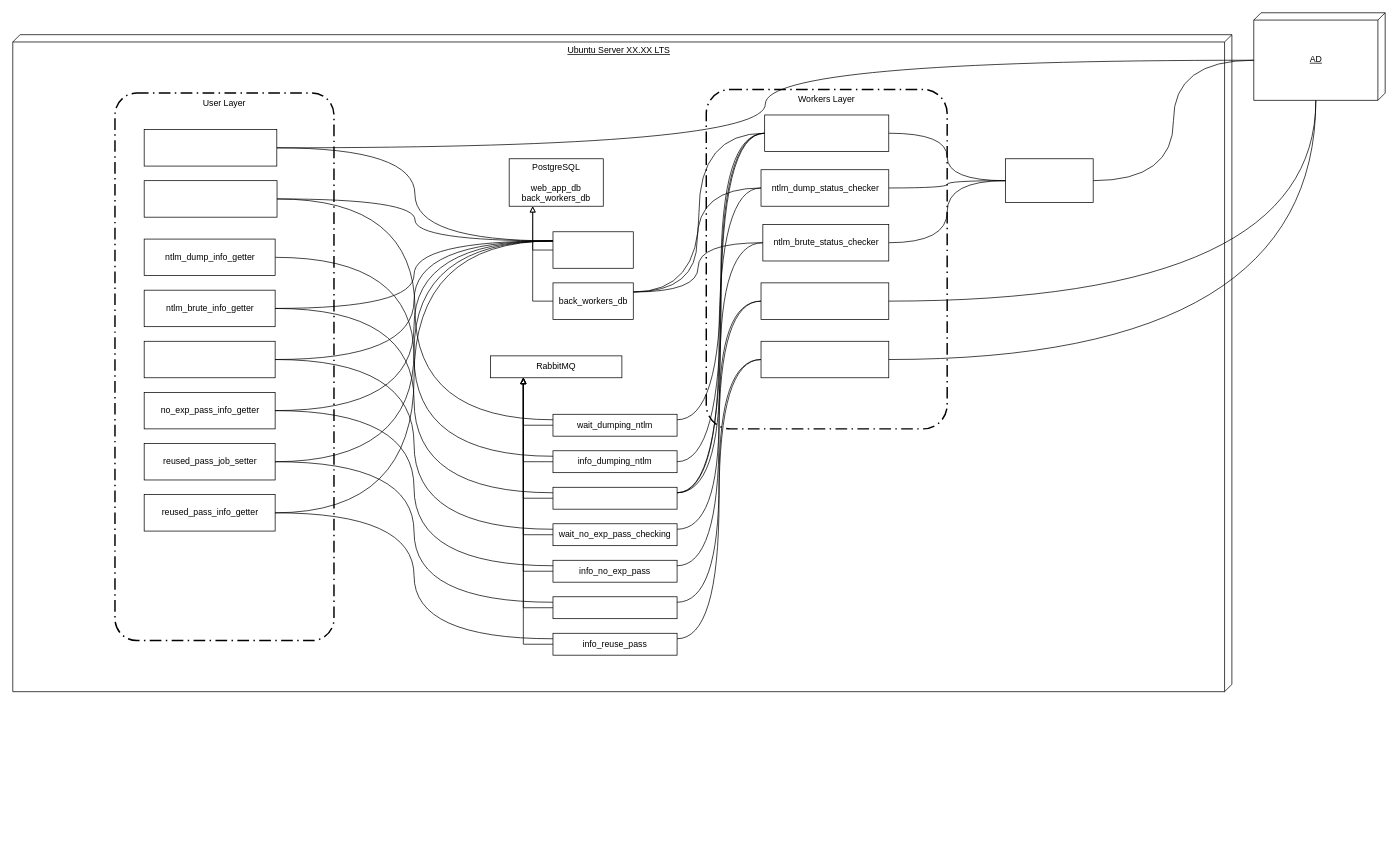
The diagram is 1398 pixels wide and 850 high, and some of its shapes have lost their labels. Each missing label, with the centre of its shape:
"info_bruting_ntlm" goes at (x=614, y=498).
"no_exp_pass_job_runner" goes at (x=824, y=300).
"noexp_pass_job_setter" goes at (x=209, y=359).
"ntlm-scrutinizer" goes at (x=1049, y=180).
"ntlm_dump_job_runner" goes at (x=826, y=132).
"ntlm_dump_job_setter" goes at (x=210, y=198).
"reused_pass_job_runner" goes at (x=824, y=359).
"wait_reuse_pass_checking" goes at (x=614, y=607).
"Web App (Angular + Django)" goes at (x=210, y=147).
"web_app_db" goes at (x=592, y=249).
